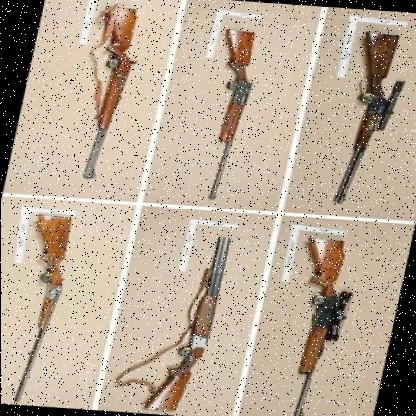rifle: (192, 26, 286, 203), (270, 238, 364, 414), (61, 6, 154, 182), (322, 29, 414, 206), (144, 236, 236, 412), (0, 213, 82, 390)
